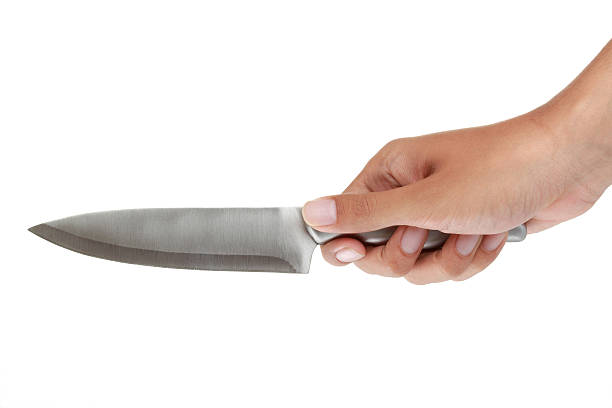knife: (26, 205, 529, 275)
